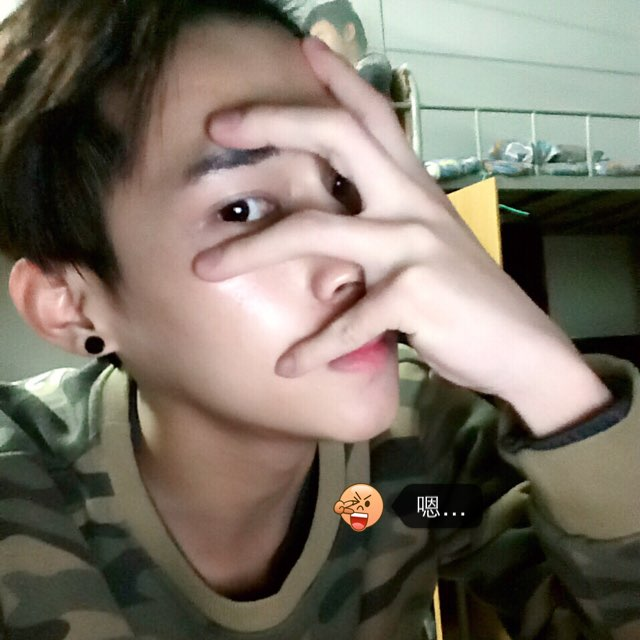face: (114, 60, 440, 440)
